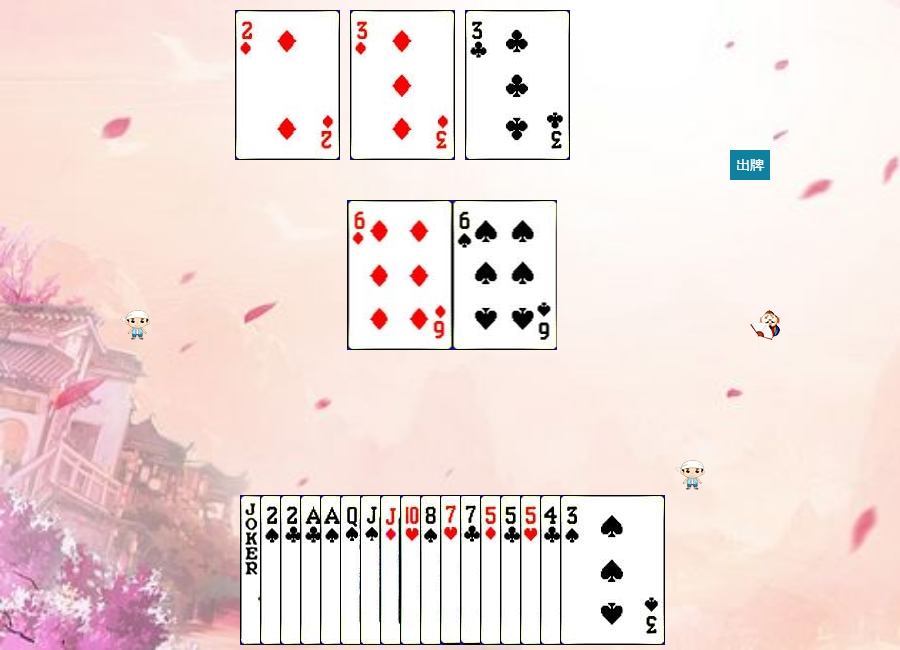10~3: (400, 495, 505, 645)
11~1: (380, 495, 485, 645)
11~4: (360, 495, 465, 645)
12~4: (340, 495, 445, 645)
14~2: (300, 495, 405, 645)
14~4: (320, 495, 425, 645)
15~1: (235, 10, 340, 160)
15~2: (280, 495, 385, 645)
15~4: (260, 495, 365, 645)
17~3: (240, 495, 345, 645)
3~1: (350, 10, 455, 160)
3~2: (465, 10, 570, 160)
3~4: (560, 495, 665, 645)
4~2: (540, 495, 645, 645)
5~1: (480, 495, 585, 645)
5~2: (500, 495, 605, 645)
5~3: (520, 495, 625, 645)
6~1: (348, 200, 453, 350)
6~4: (453, 200, 558, 350)
7~2: (460, 495, 565, 645)
7~3: (440, 495, 545, 645)
8~4: (420, 495, 525, 645)
